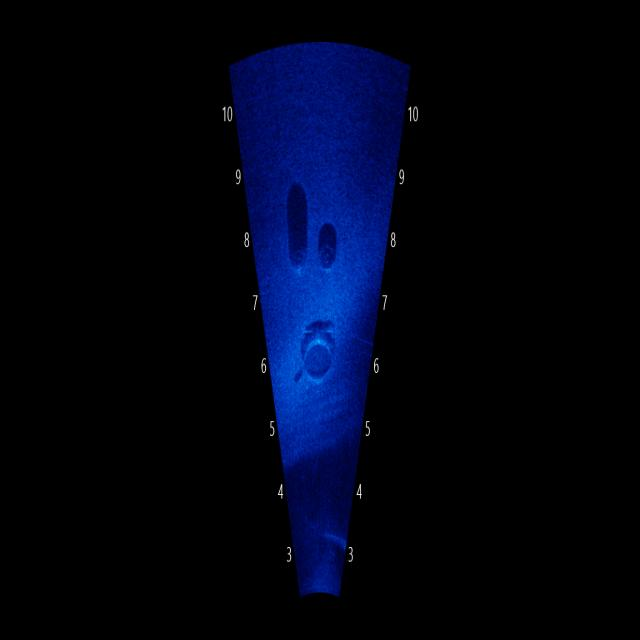circle: (297, 319, 345, 399), (310, 221, 358, 291), (284, 232, 313, 282)
